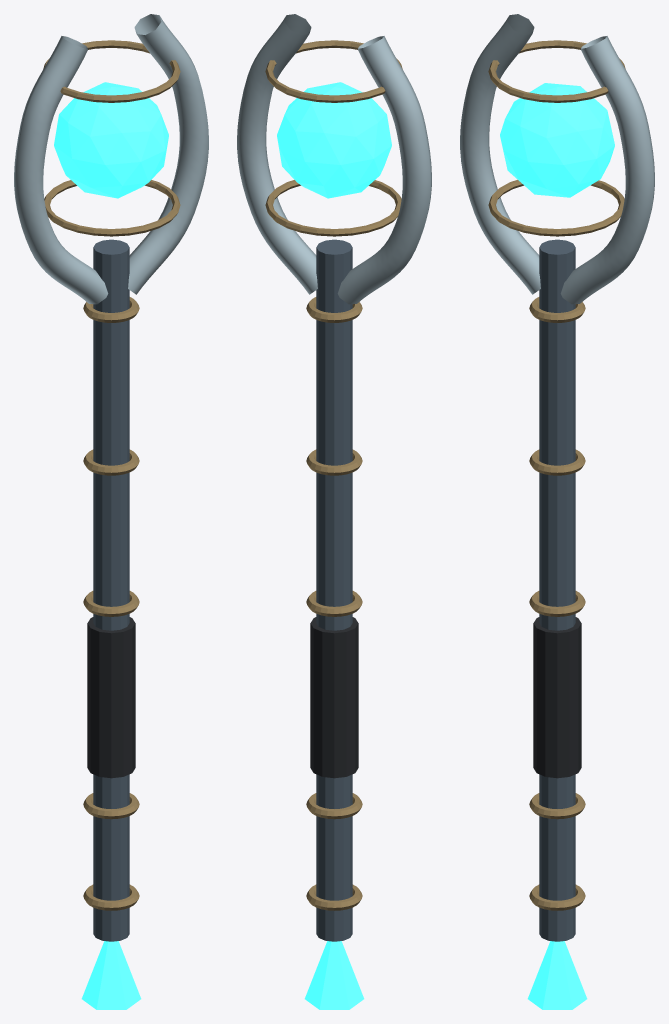
Rendered from Water_Staff.glb.
The picture shows the model from 3 angles, left to right: view 1: azimuth 30°, elevation 25°; view 2: azimuth 150°, elevation 25°; view 3: azimuth 330°, elevation 25°; orthographic projection.
Visible parts, largest first — view 1: Oceanwood staff, Suspended tidal heart, Crescent silver cradle, Crescent silver cradle.001, Braided grip, Tide crystal finial, Tidal focus ring, Tidal focus ring.001, Engraved bronze bands, Engraved bronze bands.003, Engraved bronze bands.002, Engraved bronze bands.001 (+1 smaller); view 2: Oceanwood staff, Suspended tidal heart, Crescent silver cradle, Crescent silver cradle.001, Braided grip, Tide crystal finial, Tidal focus ring, Tidal focus ring.001, Engraved bronze bands, Engraved bronze bands.003, Engraved bronze bands.002, Engraved bronze bands.001 (+1 smaller); view 3: Oceanwood staff, Suspended tidal heart, Crescent silver cradle.001, Crescent silver cradle, Braided grip, Tide crystal finial, Tidal focus ring, Tidal focus ring.001, Engraved bronze bands, Engraved bronze bands.003, Engraved bronze bands.002, Engraved bronze bands.001 (+1 smaller).
Part boxes in pixels (x1,y1,x2,y2): Oceanwood staff: (93,239,129,941); Suspended tidal heart: (54,82,168,198); Crescent silver cradle: (14,36,108,304); Crescent silver cradle.001: (128,14,208,294); Braided grip: (87,617,135,778); Tide crystal finial: (81,941,141,1009); Tidal focus ring: (44,180,180,236); Tidal focus ring.001: (43,40,180,102); Engraved bronze bands: (83,884,139,910); Engraved bronze bands.003: (83,449,139,475); Engraved bronze bands.002: (83,591,139,616); Engraved bronze bands.001: (83,793,139,819); Oceanwood staff: (316,239,352,941); Suspended tidal heart: (277,82,391,198); Crescent silver cradle: (337,36,431,304); Crescent silver cradle.001: (237,14,317,294); Braided grip: (310,617,358,778); Tide crystal finial: (304,941,364,1009); Tidal focus ring: (265,180,401,236); Tidal focus ring.001: (265,40,402,102); Engraved bronze bands: (306,884,362,910); Engraved bronze bands.003: (306,449,362,475); Engraved bronze bands.002: (306,591,362,616); Engraved bronze bands.001: (306,793,362,819); Oceanwood staff: (539,239,575,941); Suspended tidal heart: (500,83,614,197); Crescent silver cradle.001: (560,36,654,304); Crescent silver cradle: (460,14,540,294); Braided grip: (533,617,581,778); Tide crystal finial: (527,941,587,1009); Tidal focus ring: (488,179,624,236); Tidal focus ring.001: (488,40,625,102); Engraved bronze bands: (529,884,585,910); Engraved bronze bands.003: (529,449,585,475); Engraved bronze bands.002: (529,591,585,616); Engraved bronze bands.001: (529,793,585,819).
Size of the model in its own units: 0.5264 by 2.55 by 0.328.
